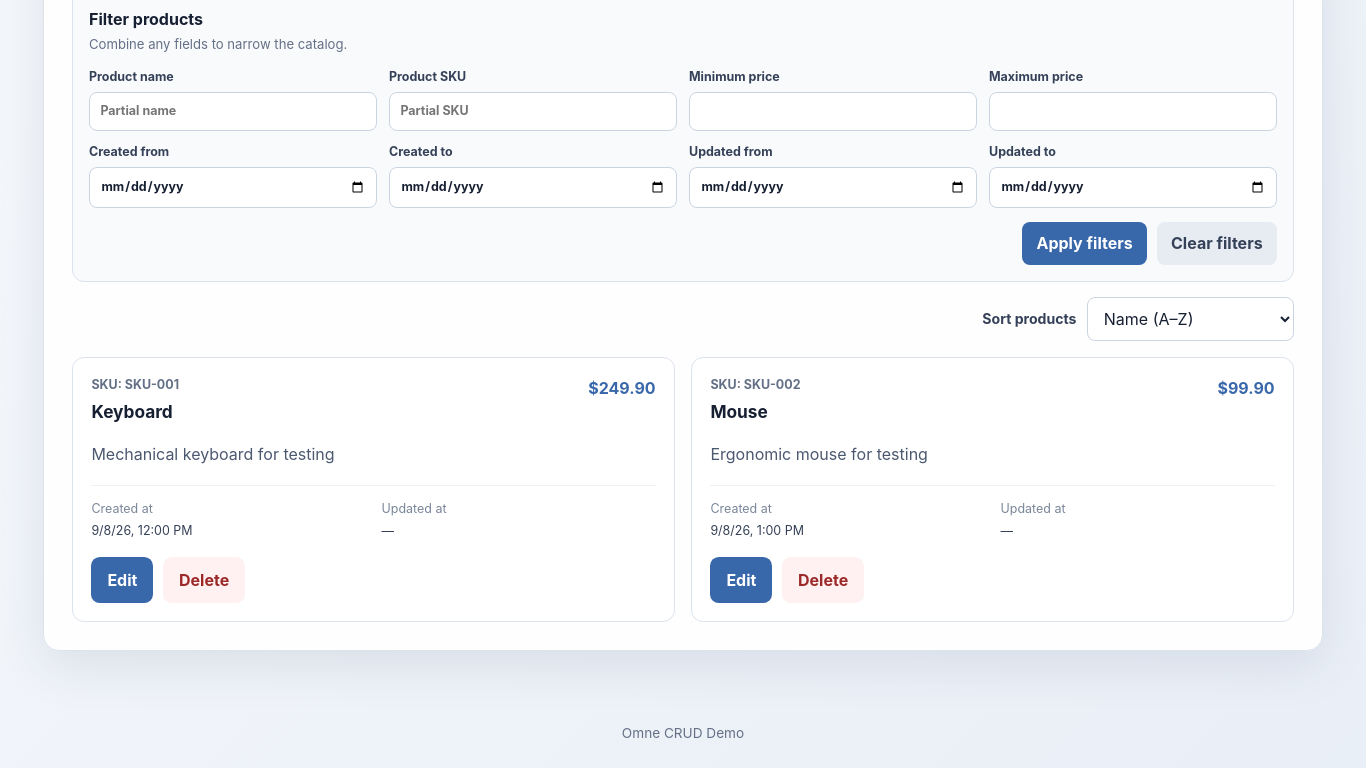
App › resets the form when editing is canceled or another product is selected
(page scrolled)
Step 1. Click the button "Edit" below "9/8/26, 12:00 PM" → x=122, y=580, box [91,557,153,603]
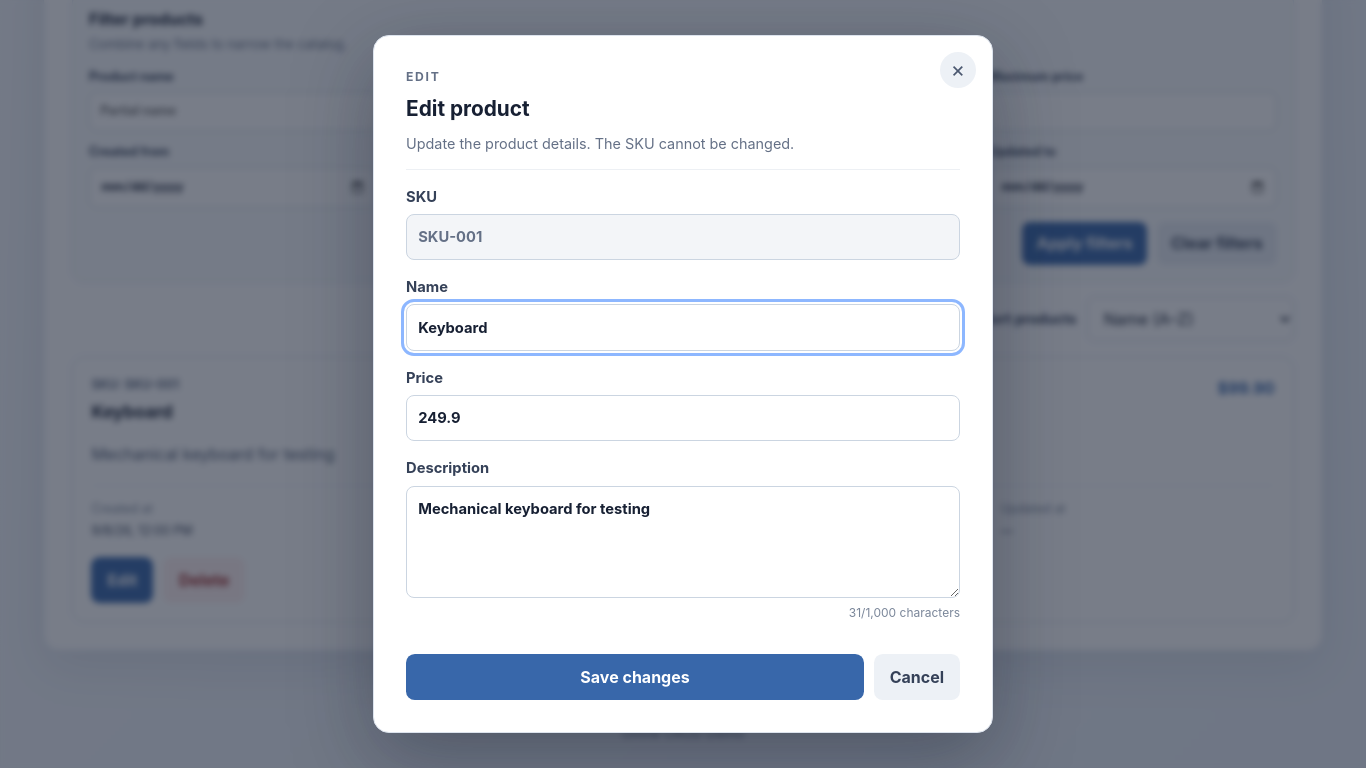
Step 2. Replace the text in the field labelled "Name" with "Temporary value" → x=683, y=328, box [406,304,960,351]
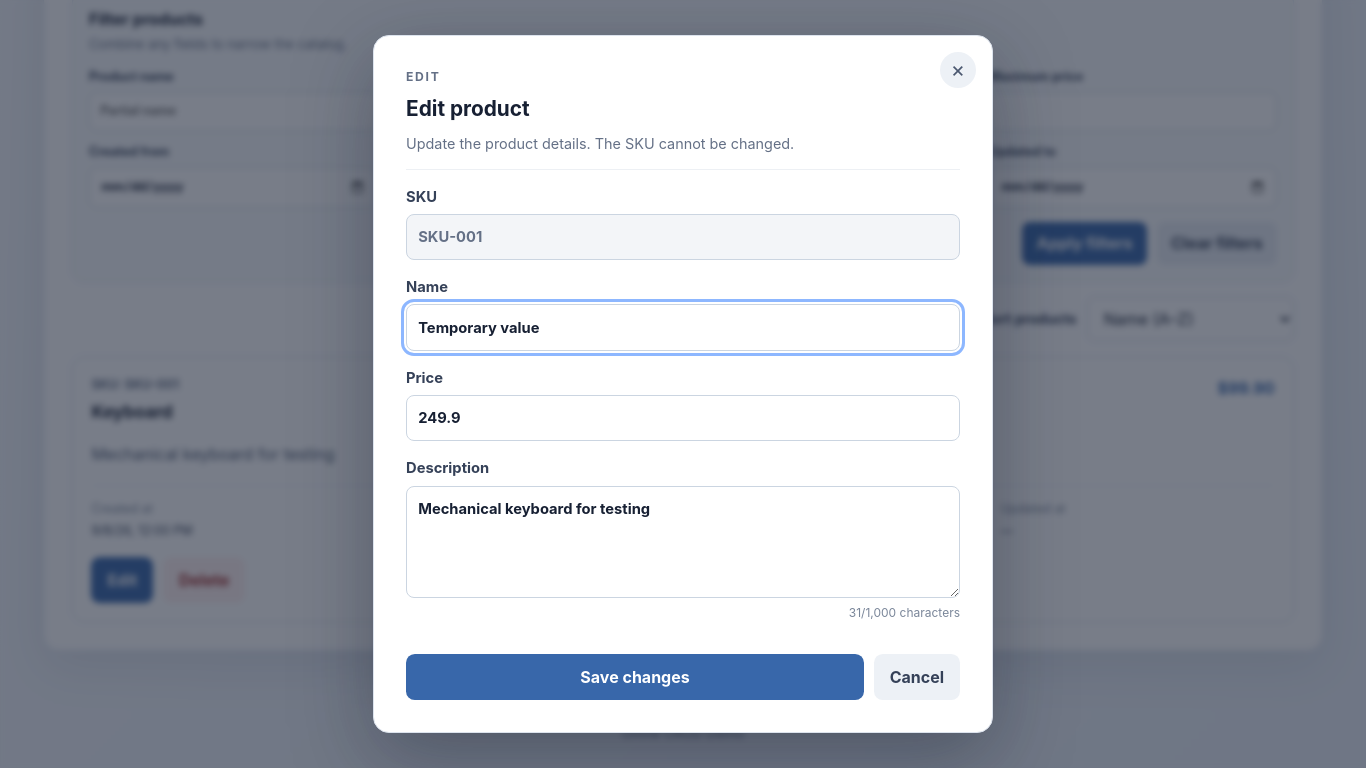
Step 3. Click the button "Cancel" → x=917, y=677, box [874,654,960,700]
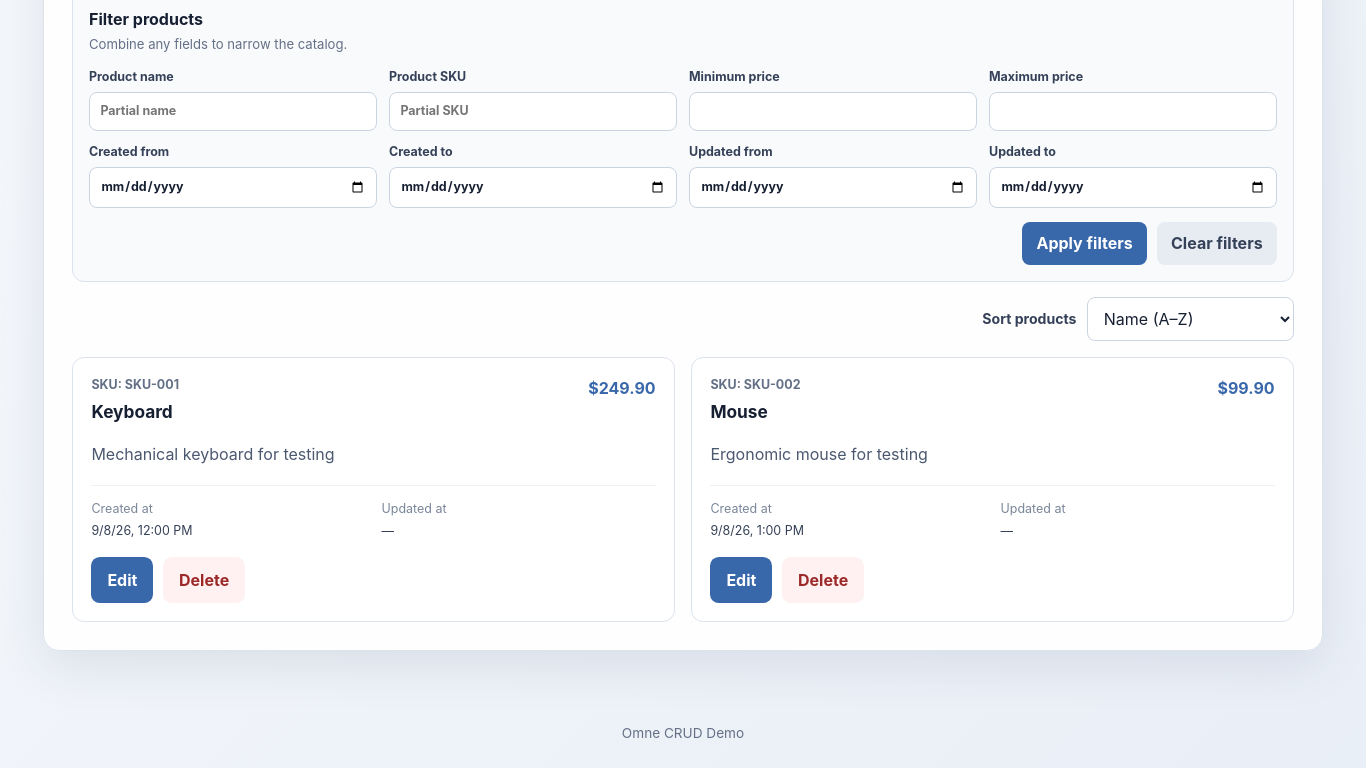
expect the dialog is gone: met
Step 4. Click the button "Edit" below "9/8/26, 1:00 PM" → x=741, y=580, box [710,557,772,603]
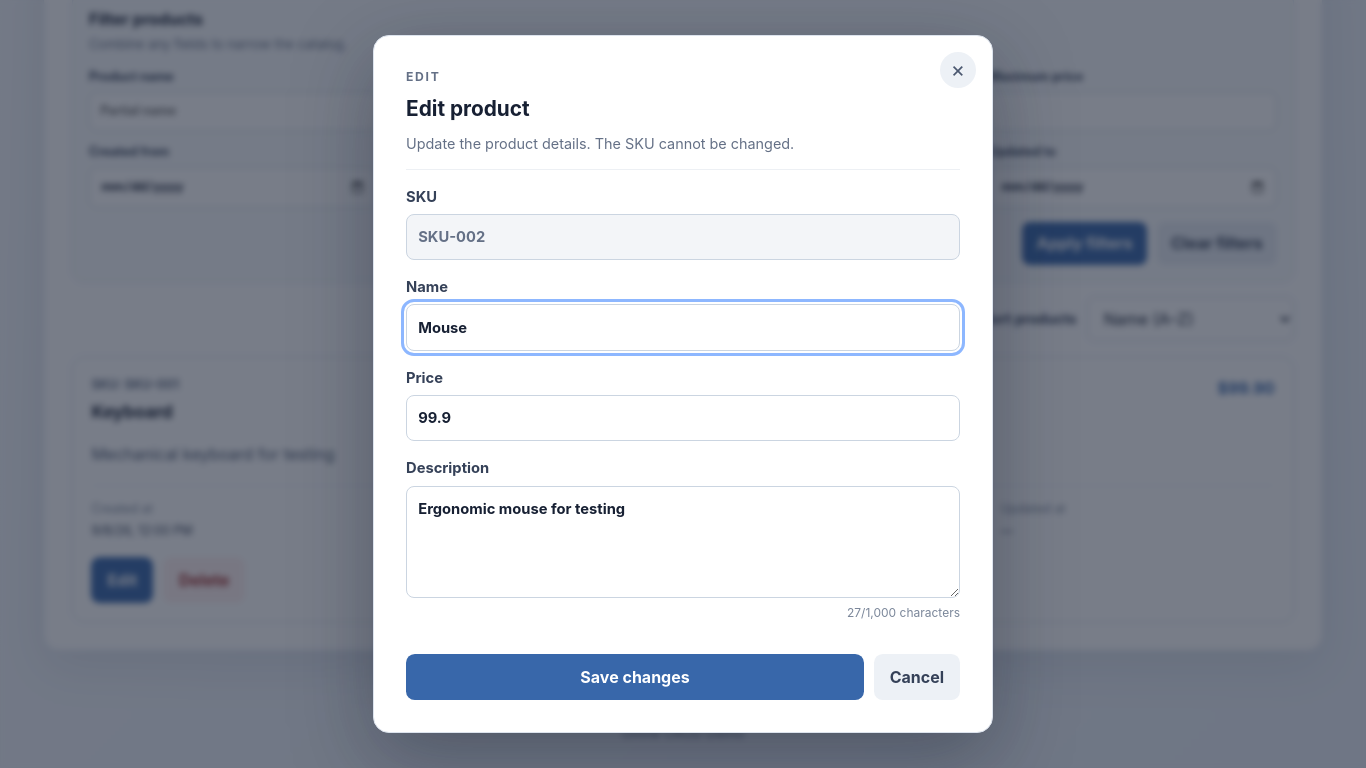
expect the dialog named "Edit Mouse" is shown: met, box [373,35,993,733]
expect the field labelled "Name" holds "Mouse": met, box [406,304,960,351]
expect the field labelled "SKU" holds "SKU-002": met, box [406,214,960,260]
